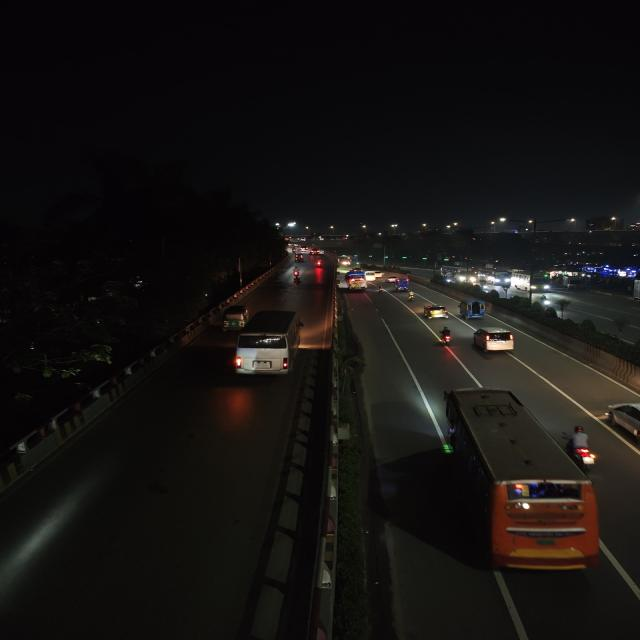bus: (431, 380, 607, 585), (231, 308, 305, 384), (437, 264, 478, 286), (513, 270, 550, 294), (478, 267, 511, 288), (345, 271, 369, 291)
car: (471, 323, 519, 359), (421, 302, 455, 324)
cng: (214, 305, 250, 332)
human_hauler: (458, 300, 488, 320)
motorcycle: (559, 419, 599, 468), (436, 321, 456, 349), (539, 294, 554, 310), (291, 265, 302, 280), (407, 288, 417, 303), (375, 283, 387, 294), (314, 257, 323, 269)
truck: (393, 277, 414, 292), (565, 276, 582, 292)
